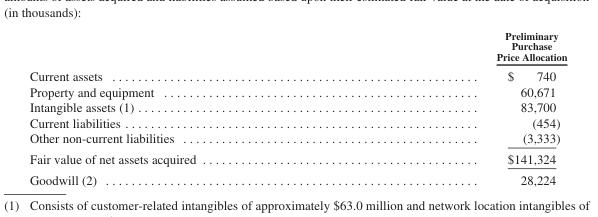table: (28, 29, 566, 186)
table column: (28, 29, 345, 186), (345, 29, 566, 186)
table column header: (28, 29, 566, 65)
table row: (28, 29, 566, 65), (28, 148, 566, 168), (28, 65, 566, 83), (28, 130, 566, 148), (28, 168, 566, 186), (28, 83, 566, 99), (28, 114, 566, 130), (28, 99, 566, 114)
